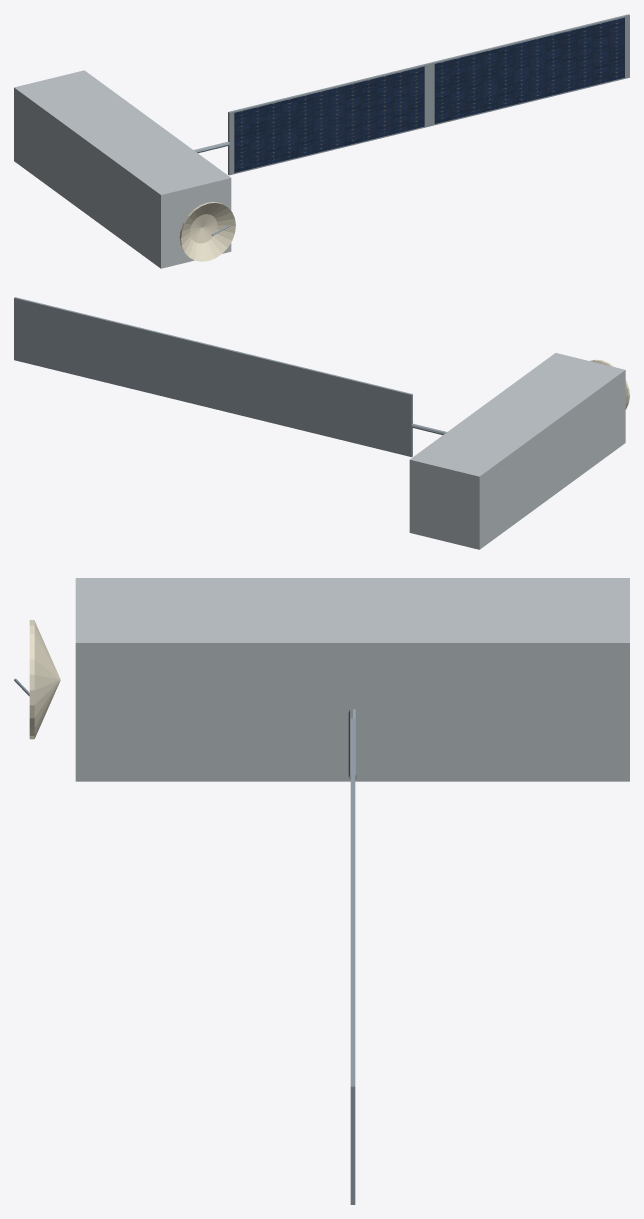
Rendered from ref-sa-200hp-27640.glb.
The picture shows the model from 3 angles, top to bottom: view 1: azimuth 30°, elevation 25°; view 2: azimuth 150°, elevation 25°; view 3: azimuth 270°, elevation 25°; orthographic projection. The views are drawn at different scales.
Parts seen in each view (by area): view 1: Spacecraft body, Photovoltaic laminates (×2), Array frame (×2), Reflector dish; view 2: Spacecraft body, Array frame (×2); view 3: Spacecraft body, Array frame (×2), Reflector dish.
Boxes of the visible parts, left/top/right/bottom form: Spacecraft body: left=14, top=70, right=231, bottom=268; Photovoltaic laminates (×2): left=234, top=17, right=624, bottom=172; Array frame (×2): left=228, top=14, right=629, bottom=175; Reflector dish: left=179, top=202, right=235, bottom=261; Spacecraft body: left=409, top=353, right=625, bottom=549; Array frame (×2): left=14, top=297, right=412, bottom=456; Spacecraft body: left=75, top=578, right=629, bottom=781; Array frame (×2): left=350, top=718, right=355, bottom=1204; Reflector dish: left=29, top=620, right=60, bottom=739.
Bounding box in the file's own units: 10 × 1.3 × 5.22.
4 materials, 1 textured.
